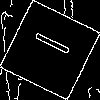I: (24, 24, 72, 58)
